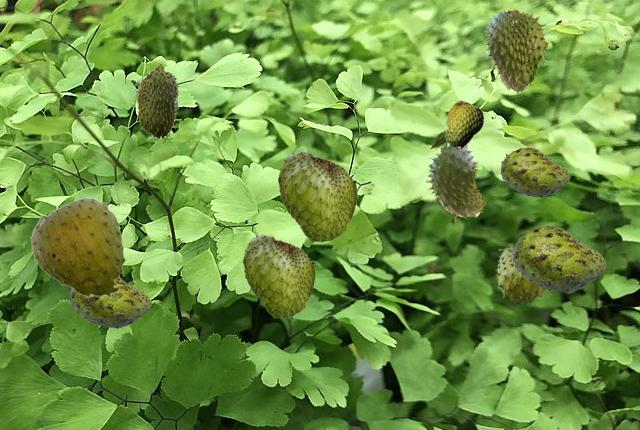guyabano: (29, 197, 125, 298), (278, 149, 356, 241), (512, 225, 605, 291), (243, 233, 314, 317), (483, 9, 551, 93), (426, 144, 485, 223), (69, 277, 150, 327), (500, 147, 569, 196), (135, 63, 179, 138), (495, 244, 548, 302), (444, 100, 483, 149)
